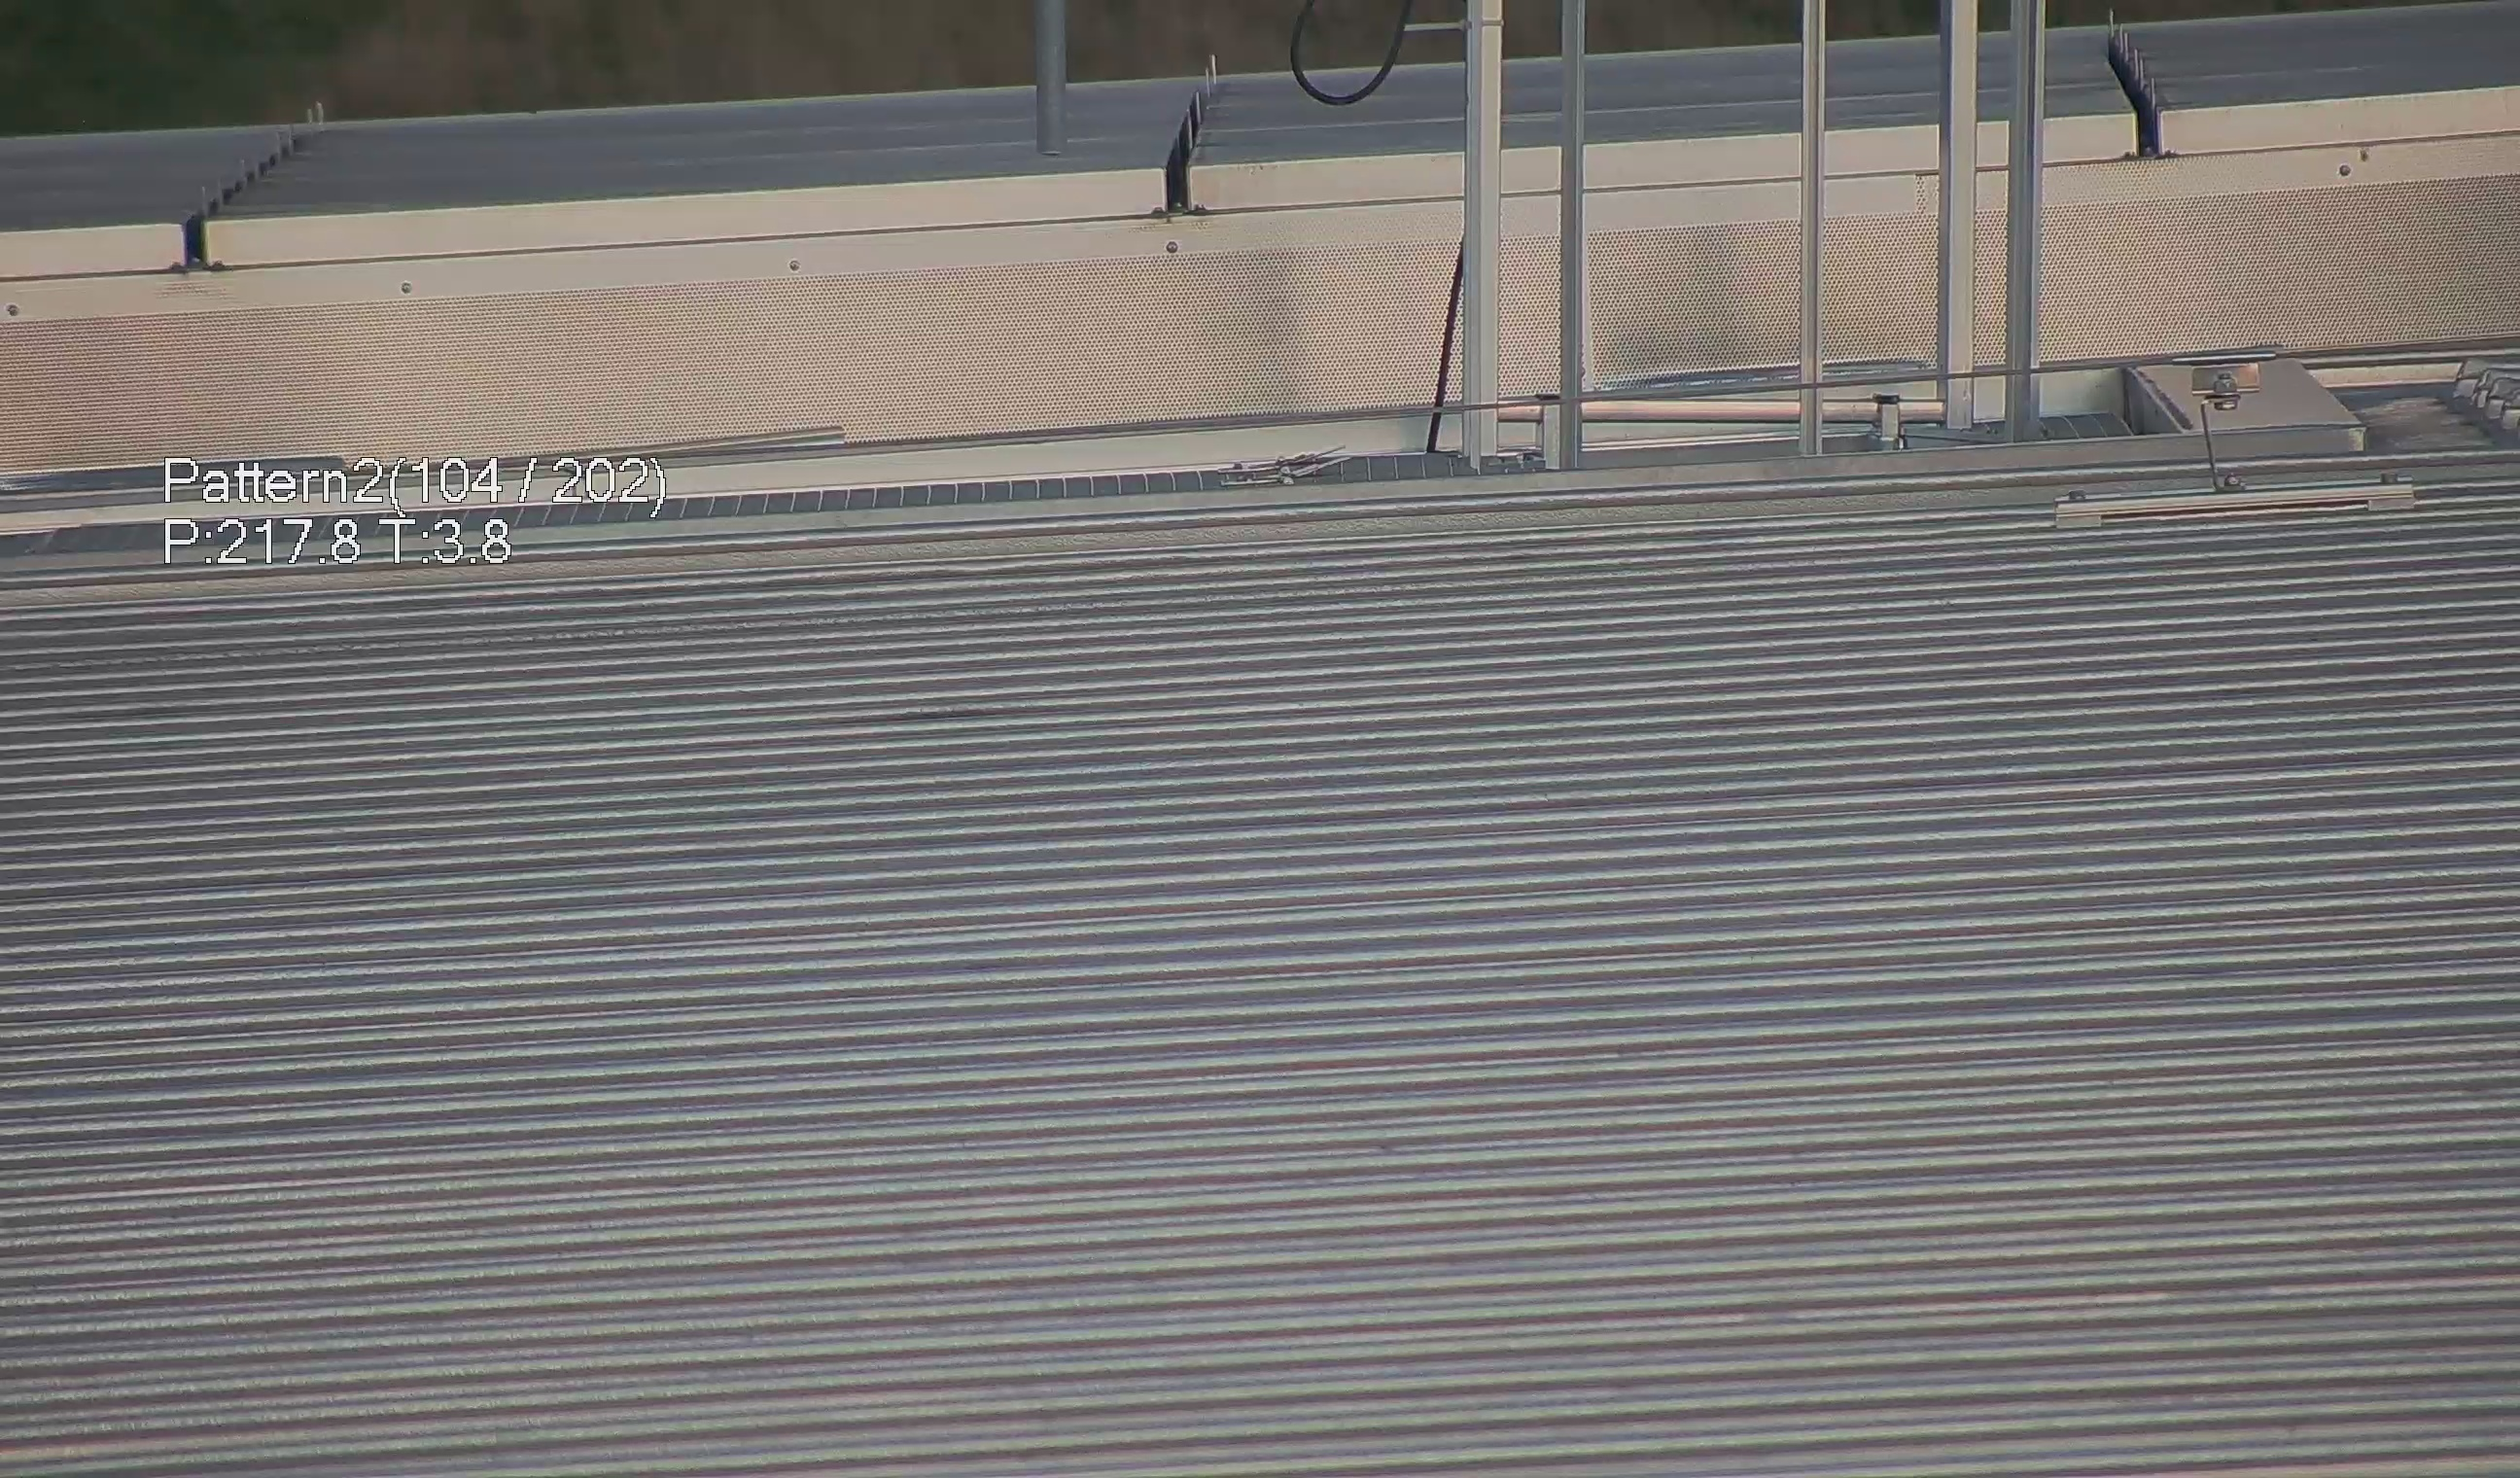Other: (2096, 11, 2186, 164)
